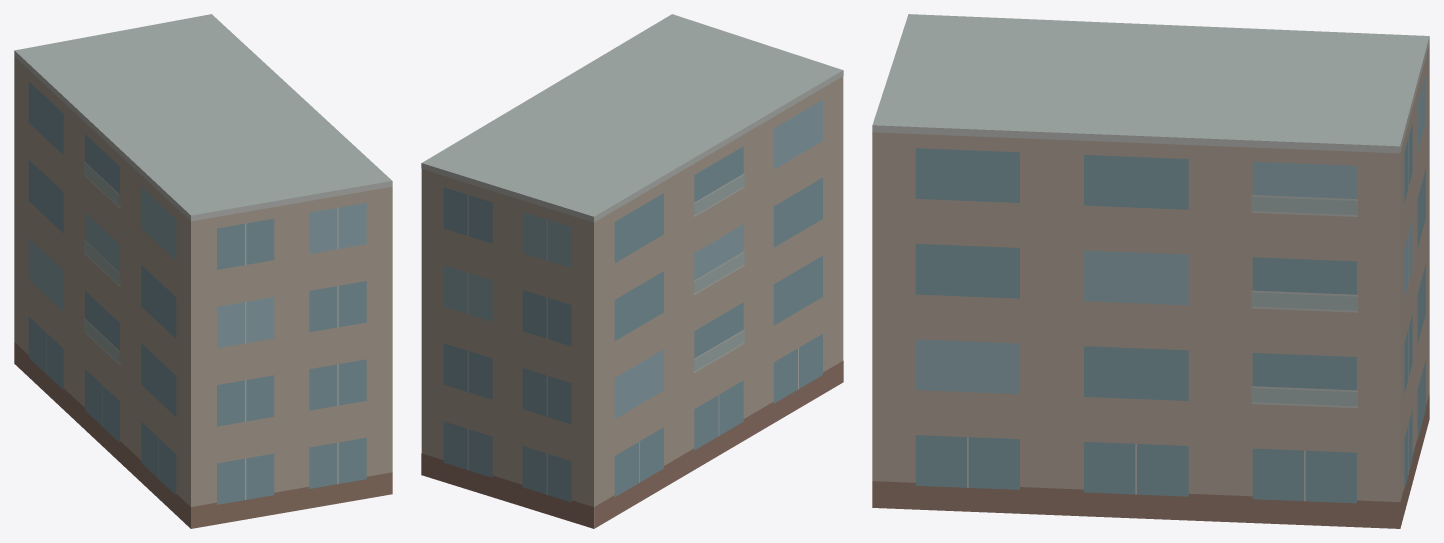
The model's file is survey-upis-32838838.glb.
3 views of the same model, side by side, from view 1: azimuth 30°, elevation 25°; view 2: azimuth 150°, elevation 25°; view 3: azimuth 270°, elevation 25° (orthographic). The views are drawn at different scales.
Visible parts, largest first — view 1: survey-upis-32838838.tmp; view 2: survey-upis-32838838.tmp; view 3: survey-upis-32838838.tmp.
Part boxes in pixels (left/top/right/bottom): survey-upis-32838838.tmp: left=14, top=14, right=392, bottom=528; survey-upis-32838838.tmp: left=421, top=14, right=843, bottom=528; survey-upis-32838838.tmp: left=872, top=14, right=1429, bottom=528.
Size of the model in its own units: 9.8 by 13.2 by 17.44.
